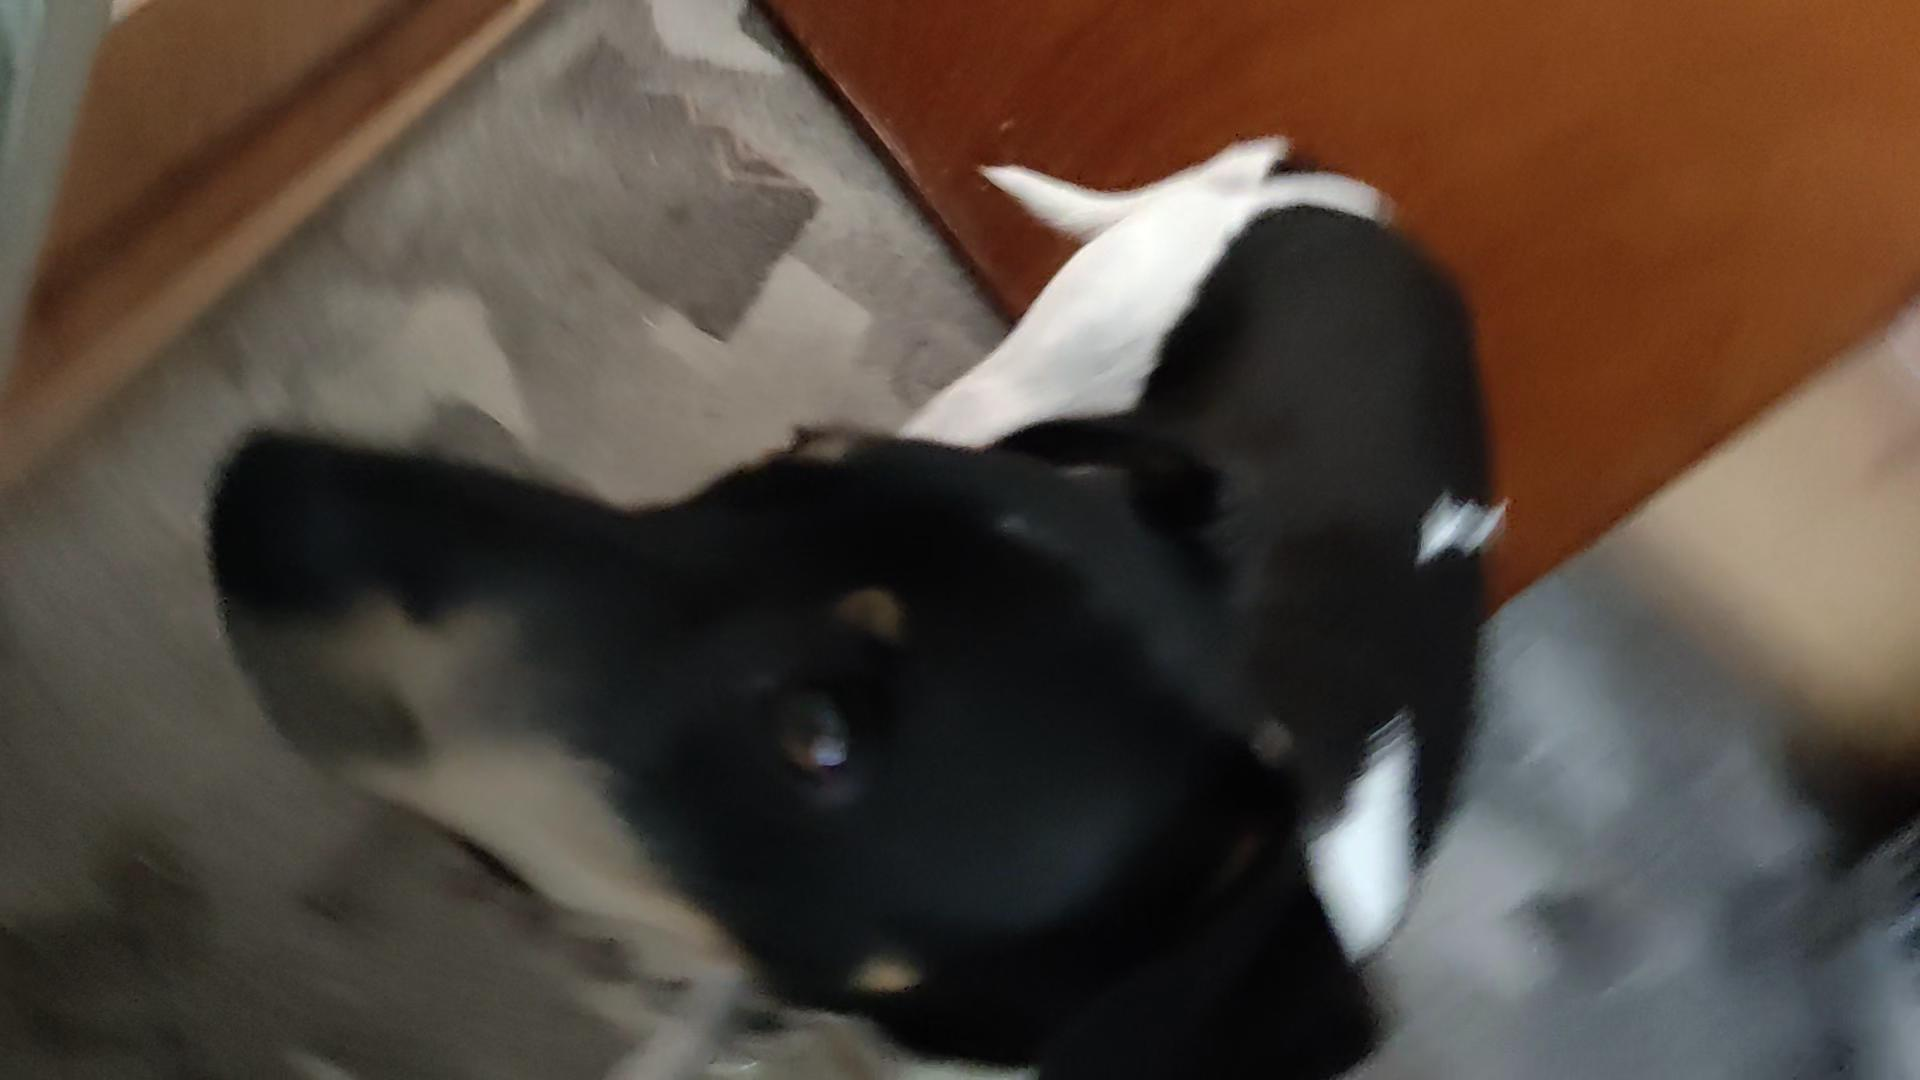Dog: (193, 94, 1531, 1079)
